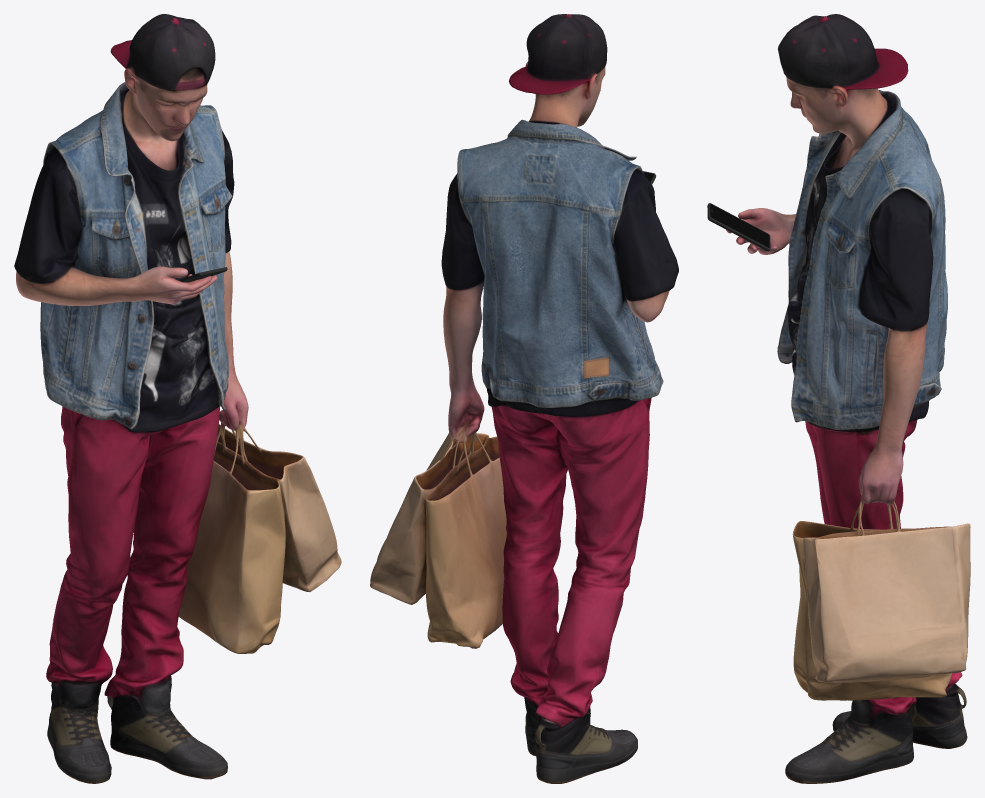
The model's file is male-shopper.glb.
3 renders of one model, left to right at view 1: azimuth 30°, elevation 25°; view 2: azimuth 150°, elevation 25°; view 3: azimuth 270°, elevation 25°, orthographic. The views are drawn at different scales.
Visible parts, largest first — view 1: Lost in Mall; view 2: Lost in Mall; view 3: Lost in Mall.
Part boxes in pixels (<box>): Lost in Mall: <box>14,14,341,783</box>; Lost in Mall: <box>370,14,678,783</box>; Lost in Mall: <box>707,14,970,783</box>.
Bounding box in the file's own units: 0.7312 × 1.76 × 0.5592.
1 material, 1 textured.
